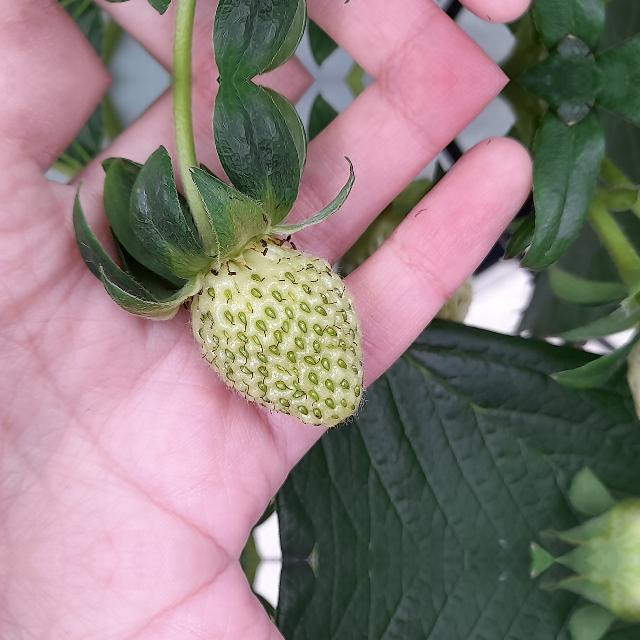Health_25: (190, 239, 364, 426)
